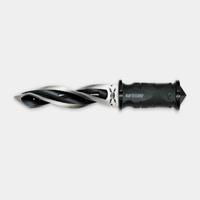knife: (10, 76, 190, 114)
